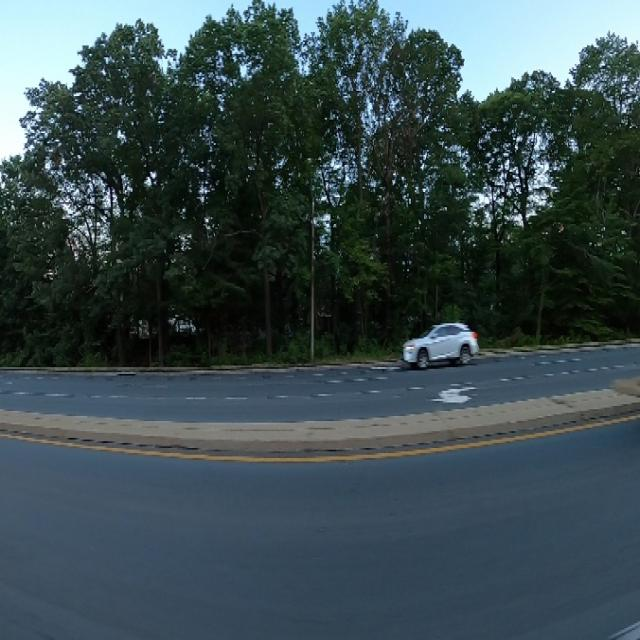car: (395, 312, 483, 372)
